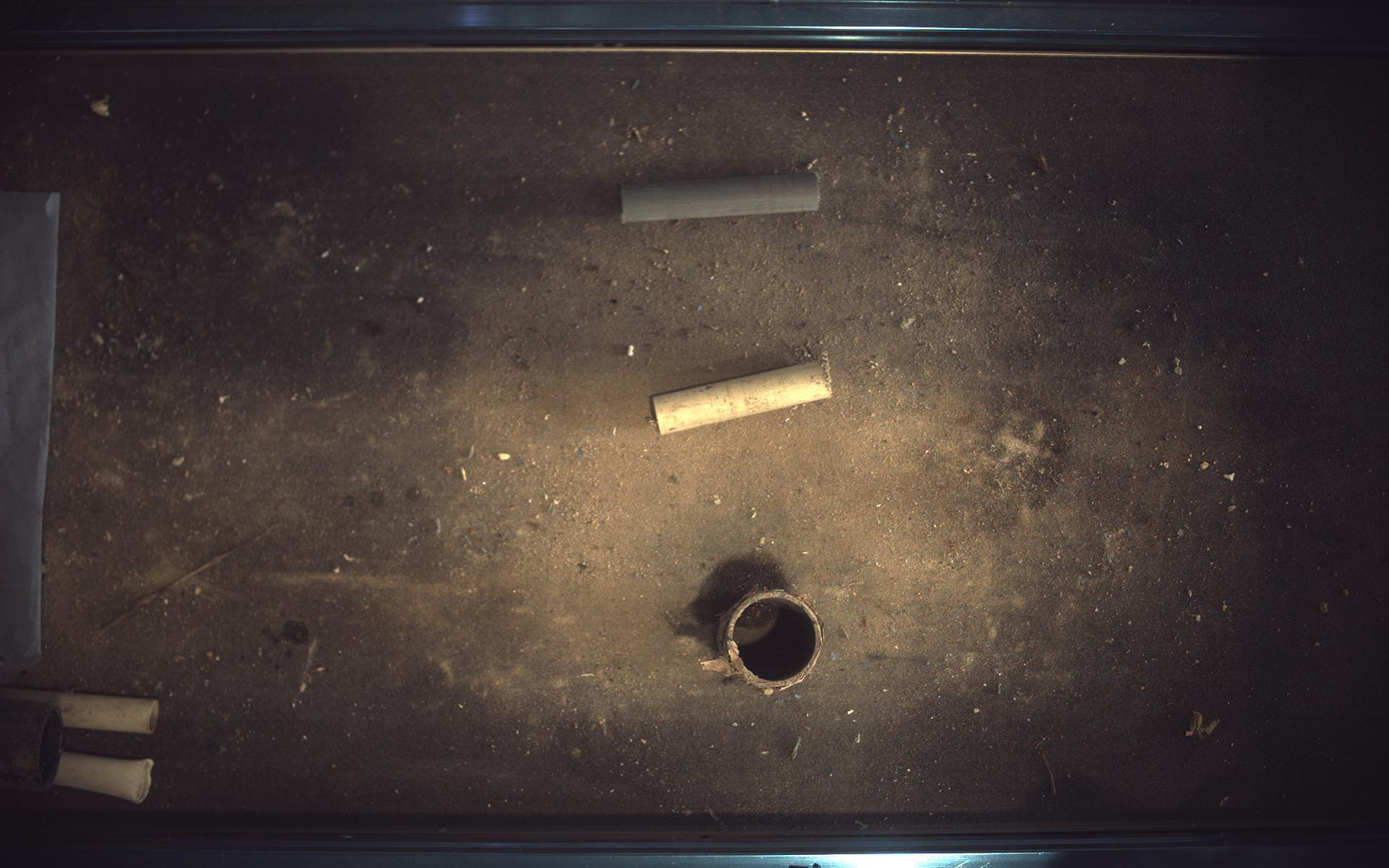pipes: (653, 361, 833, 435), (702, 590, 824, 695), (621, 171, 821, 222)
